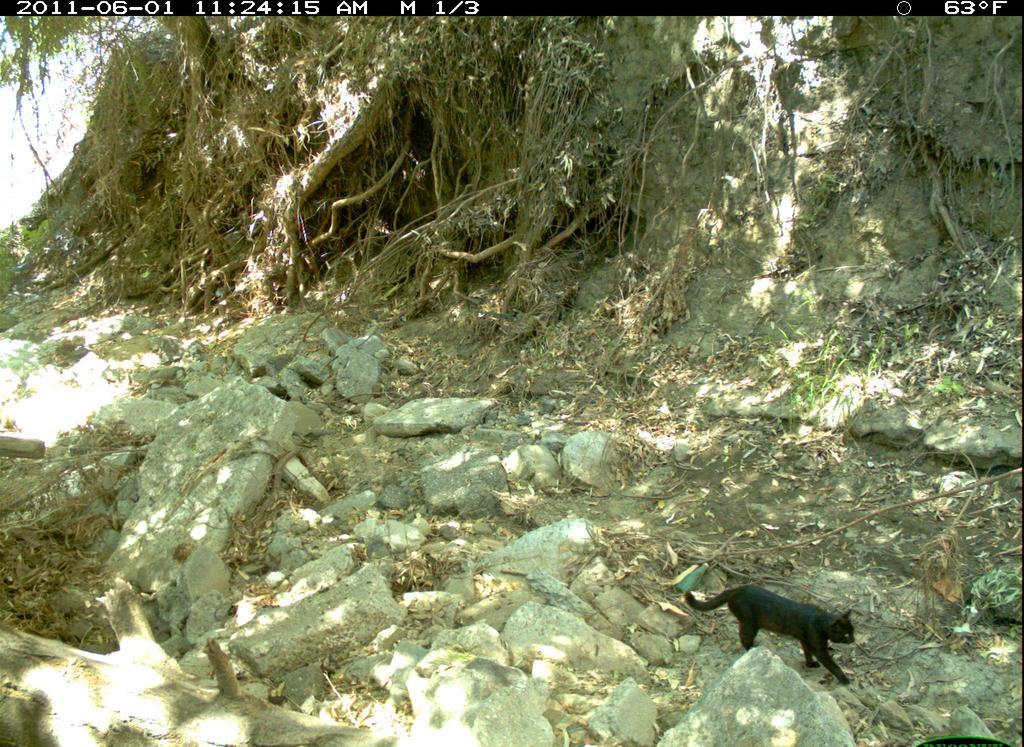cat: (680, 571, 862, 689)
